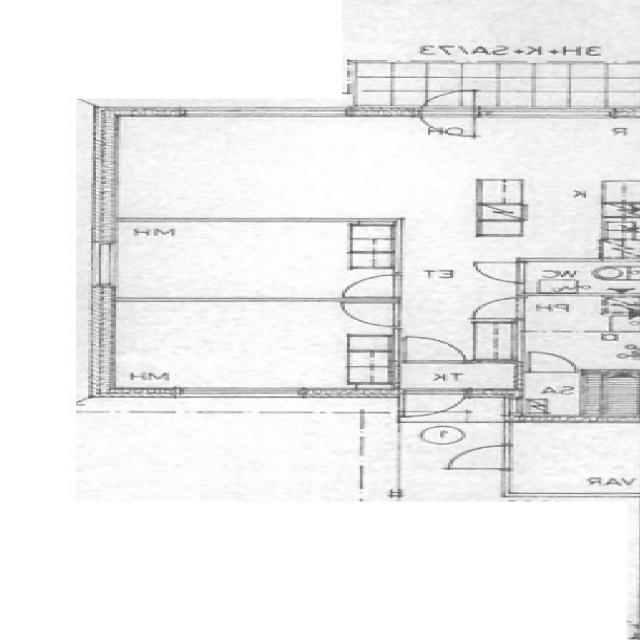door: (404, 389, 466, 423), (421, 85, 474, 117), (421, 107, 474, 139), (405, 336, 465, 364), (337, 303, 401, 327), (338, 275, 401, 298), (450, 447, 514, 469), (465, 298, 523, 319), (467, 264, 523, 283), (530, 352, 575, 374)
